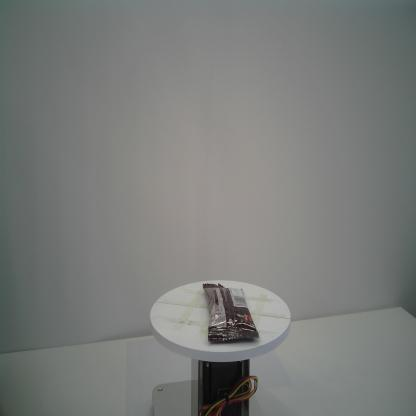Chocolate: (202, 282, 260, 343)
